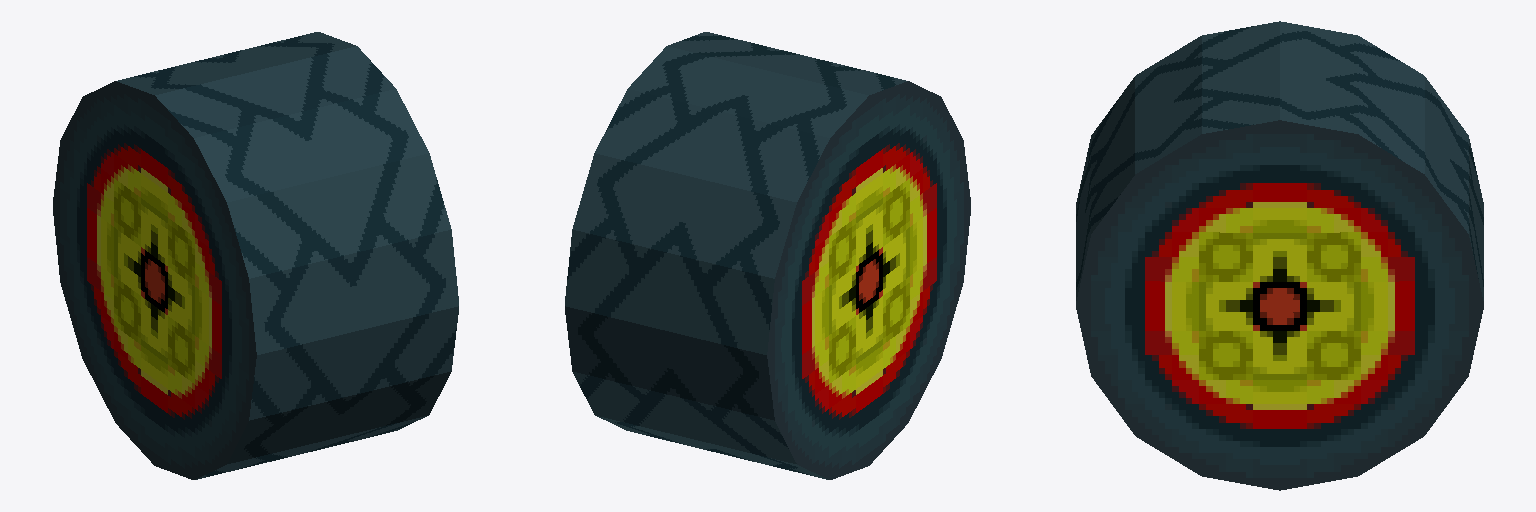
The picture shows the model from 3 angles: view 1: azimuth 30°, elevation 25°; view 2: azimuth 150°, elevation 25°; view 3: azimuth 270°, elevation 25°; orthographic projection.
Visible parts, largest first — view 1: polygon0.001; view 2: polygon0.001; view 3: polygon0.001.
Part boxes in pixels (x1,y1,x2,y2): polygon0.001: (53,32,458,479); polygon0.001: (565,32,970,479); polygon0.001: (1076,21,1483,490).
Size of the model in its own units: 0.249 by 0.4351 by 0.4351.
1 materials, 1 textured.